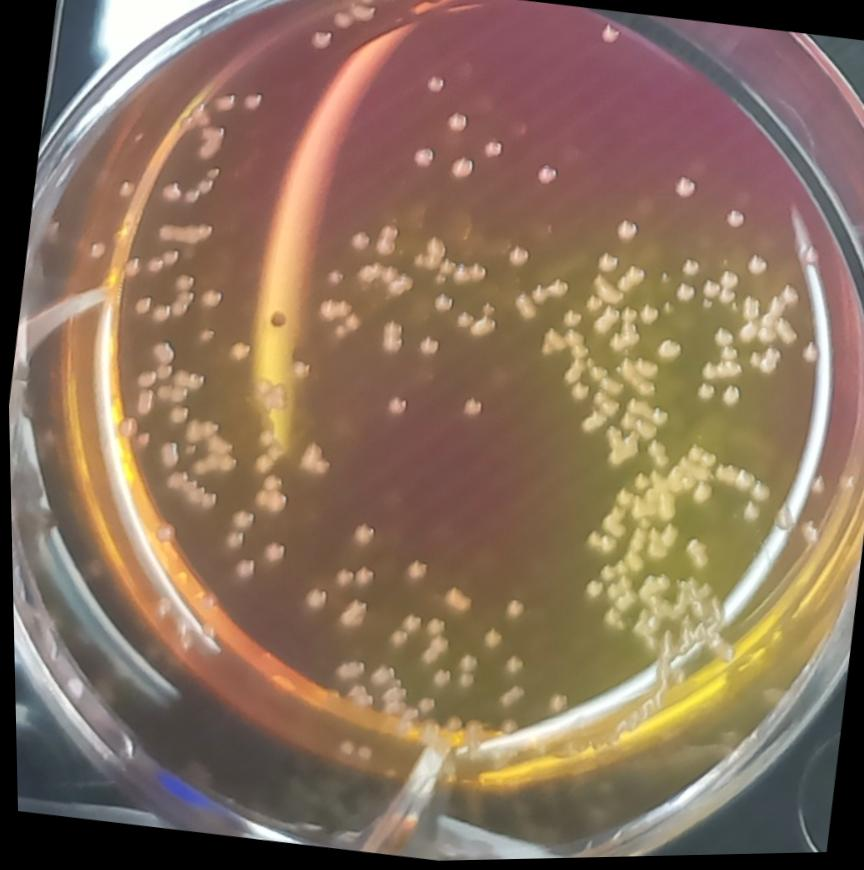staphylo-: (654, 440, 717, 507), (351, 259, 416, 303), (609, 519, 647, 581), (609, 356, 660, 399), (596, 427, 642, 471), (626, 490, 675, 526), (558, 332, 590, 387), (292, 439, 333, 481), (641, 522, 679, 565), (409, 232, 447, 274), (743, 344, 784, 382), (634, 569, 670, 611), (370, 219, 405, 261), (694, 358, 742, 388), (600, 575, 637, 613), (432, 585, 473, 619), (585, 276, 625, 310), (372, 318, 405, 359), (677, 537, 711, 574), (533, 327, 567, 364), (614, 398, 647, 434), (314, 296, 352, 327), (450, 261, 489, 291), (528, 161, 562, 193), (613, 265, 645, 298), (588, 307, 619, 341), (650, 336, 683, 367), (667, 176, 700, 207), (500, 241, 532, 272), (507, 292, 538, 324), (641, 441, 672, 471), (346, 521, 376, 552), (496, 596, 526, 627), (445, 154, 475, 184), (440, 108, 470, 138), (477, 135, 507, 165), (719, 206, 748, 236), (610, 217, 639, 247), (419, 71, 448, 101), (595, 516, 626, 543), (398, 558, 427, 586), (344, 227, 372, 256), (407, 145, 437, 172), (592, 252, 622, 278), (673, 258, 703, 284), (670, 280, 697, 308), (412, 334, 440, 361), (476, 628, 503, 655), (705, 327, 733, 353), (417, 615, 445, 641), (432, 257, 455, 288), (428, 290, 454, 317), (715, 270, 743, 295), (716, 386, 742, 412), (644, 405, 670, 431), (497, 655, 524, 680), (696, 278, 721, 304), (633, 306, 659, 331), (576, 529, 601, 554), (630, 419, 655, 444), (544, 277, 570, 301), (576, 580, 602, 604), (525, 282, 550, 306), (626, 472, 651, 496), (565, 382, 589, 407), (690, 384, 717, 406), (608, 488, 632, 512), (558, 309, 581, 334), (396, 613, 420, 636), (595, 535, 616, 560), (713, 286, 735, 309), (382, 629, 404, 652), (593, 563, 615, 585)
